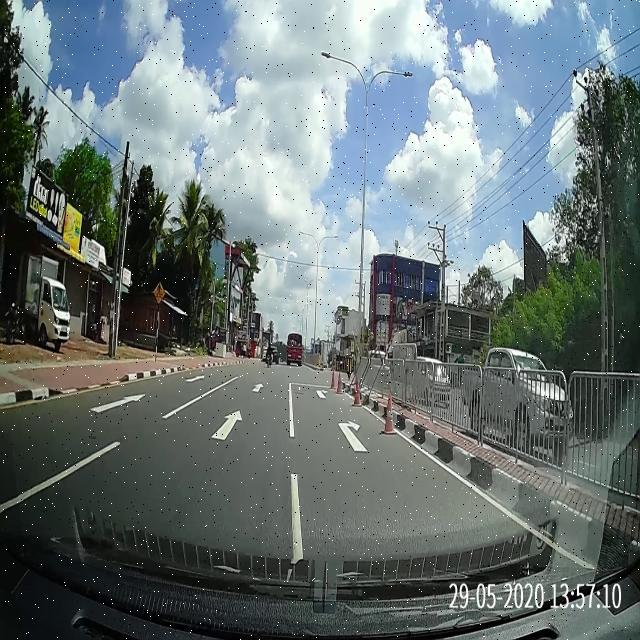forward: (133, 395, 298, 465)
